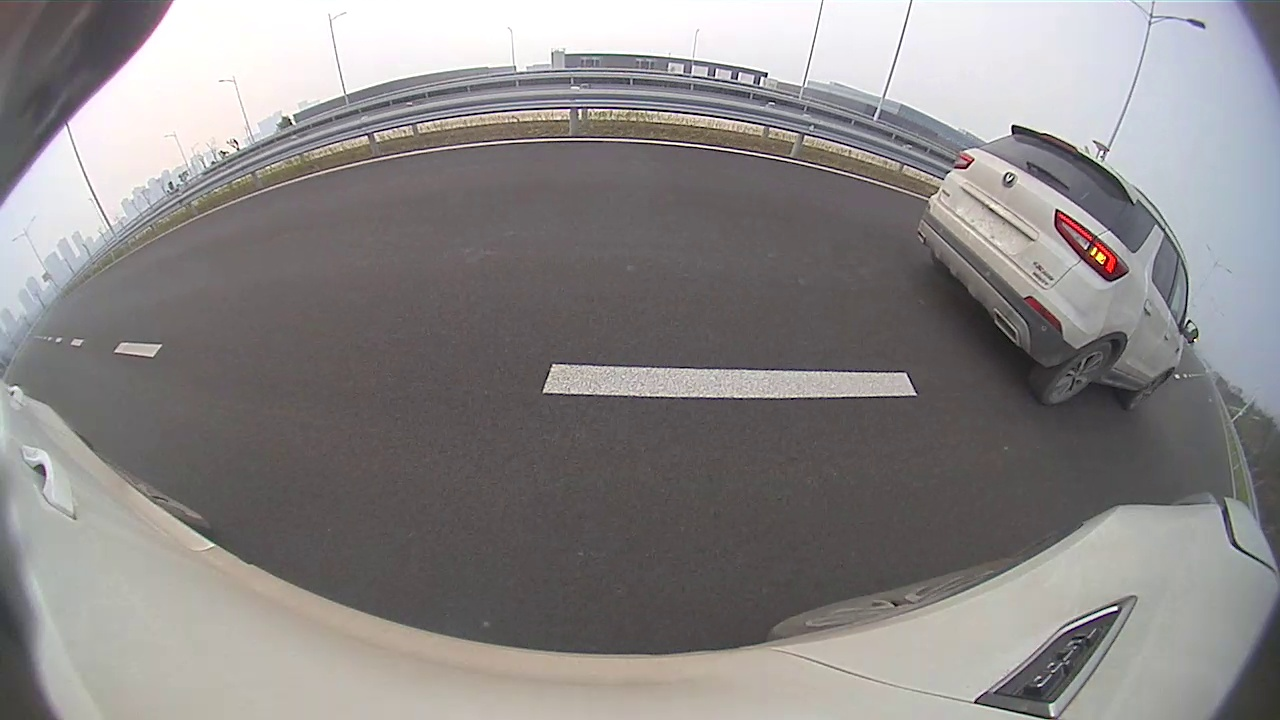car: (917, 125, 1199, 412)
rear: (1041, 339, 1117, 404)
